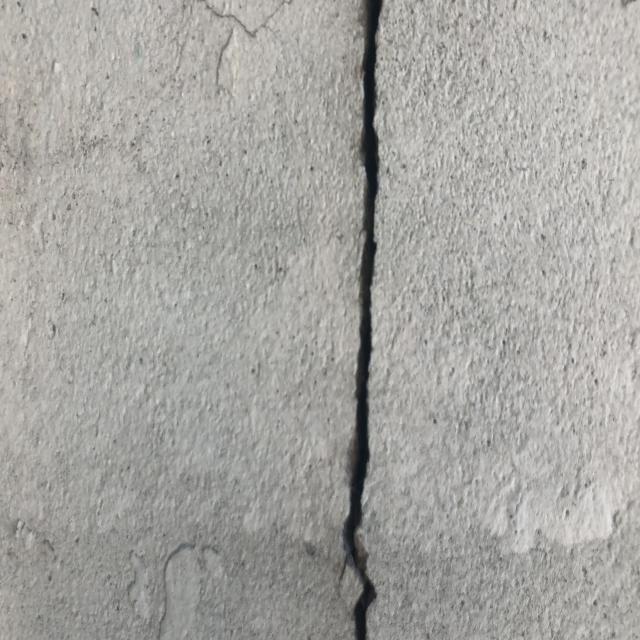SurfaceCrack: (284, 0, 444, 639)
